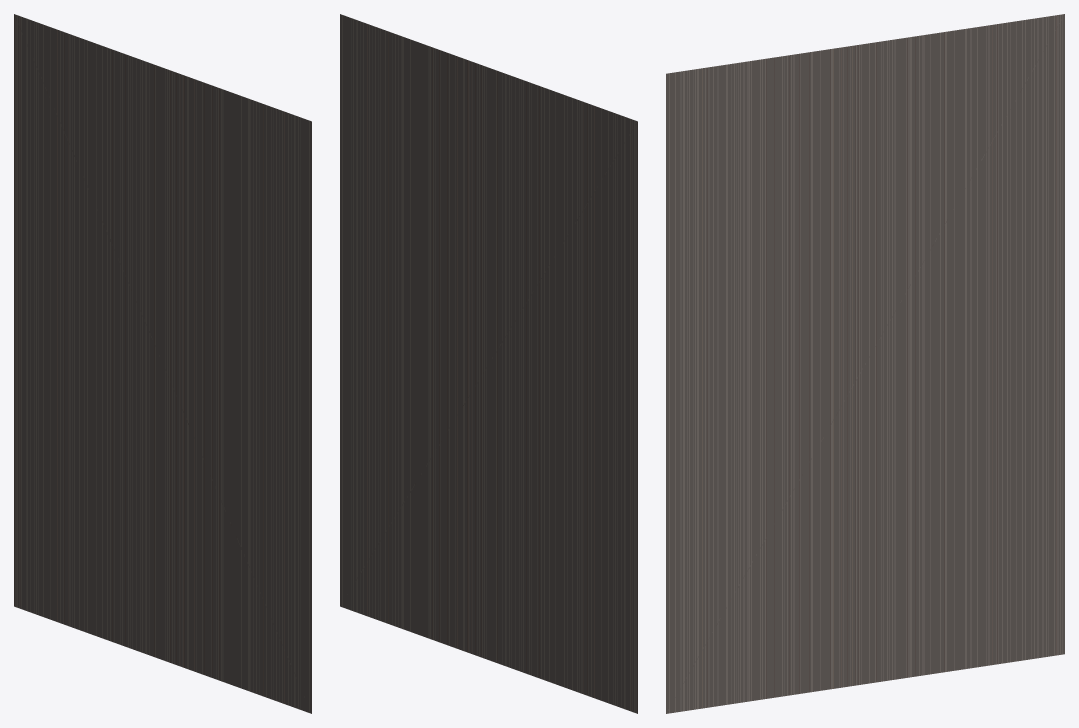
Rendered from kd_stage_135ded_1_15.glb.
The picture shows the model from 3 angles, left to right: view 1: azimuth 30°, elevation 25°; view 2: azimuth 210°, elevation 25°; view 3: azimuth 270°, elevation 25°; orthographic projection. The views are drawn at different scales.
Parts seen in each view (by area): view 1: kd_stage_135ded_1_15; view 2: kd_stage_135ded_1_15; view 3: kd_stage_135ded_1_15.
Boxes of the visible parts, x1,y1,x2,y2 form: kd_stage_135ded_1_15: (14, 14, 311, 713); kd_stage_135ded_1_15: (340, 14, 637, 713); kd_stage_135ded_1_15: (666, 14, 1064, 713).
Bounding box in the file's own units: 0.2 × 1 × 0.5645.
Materials: 1 (1 with a texture image).
